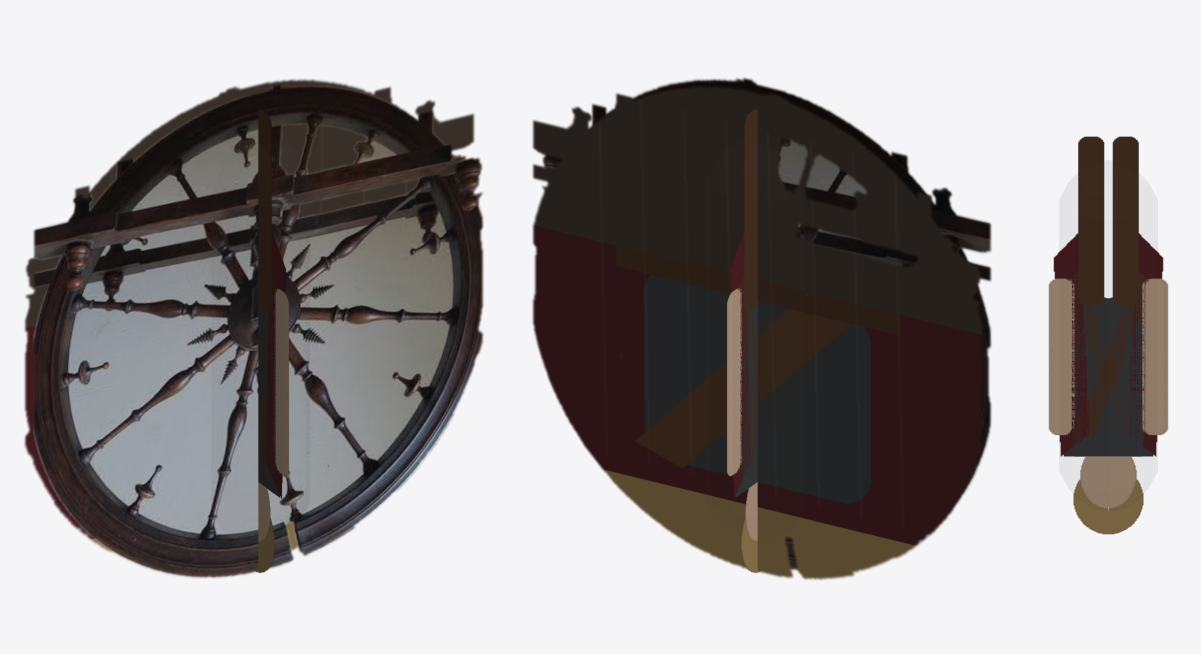
The model's file is Midgard_Hero_Valkyrie_Skin_V5_Projected_YUP.glb.
3 renders of one model, left to right at view 1: azimuth 30°, elevation 25°; view 2: azimuth 150°, elevation 25°; view 3: azimuth 270°, elevation 25°, orthographic. The views are drawn at different scales.
Parts seen in each view (by area): view 1: HeroVisual_Front, HeroVisual_Back, HeroVisual_SideL, HeroVisual_SideR; view 2: HeroVisual_Back, HeroVisual_Front, HeroVisual_SideR, HeroVisual_SideL; view 3: HeroVisual_SideL, HeroVisual_SideR.
Part boxes in pixels (x1,y1,x2,y2): HeroVisual_Front: (33, 84, 483, 578); HeroVisual_Back: (24, 79, 474, 554); HeroVisual_SideL: (256, 108, 288, 572); HeroVisual_SideR: (256, 108, 287, 572); HeroVisual_Back: (532, 85, 982, 579); HeroVisual_Front: (542, 78, 991, 570); HeroVisual_SideR: (727, 109, 758, 572); HeroVisual_SideL: (728, 108, 759, 572); HeroVisual_SideL: (1048, 136, 1165, 534); HeroVisual_SideR: (1051, 136, 1168, 534).
Size of the model in its own units: 2.75 by 2.82 by 0.9302.
Materials: 4 (3 with a texture image).
